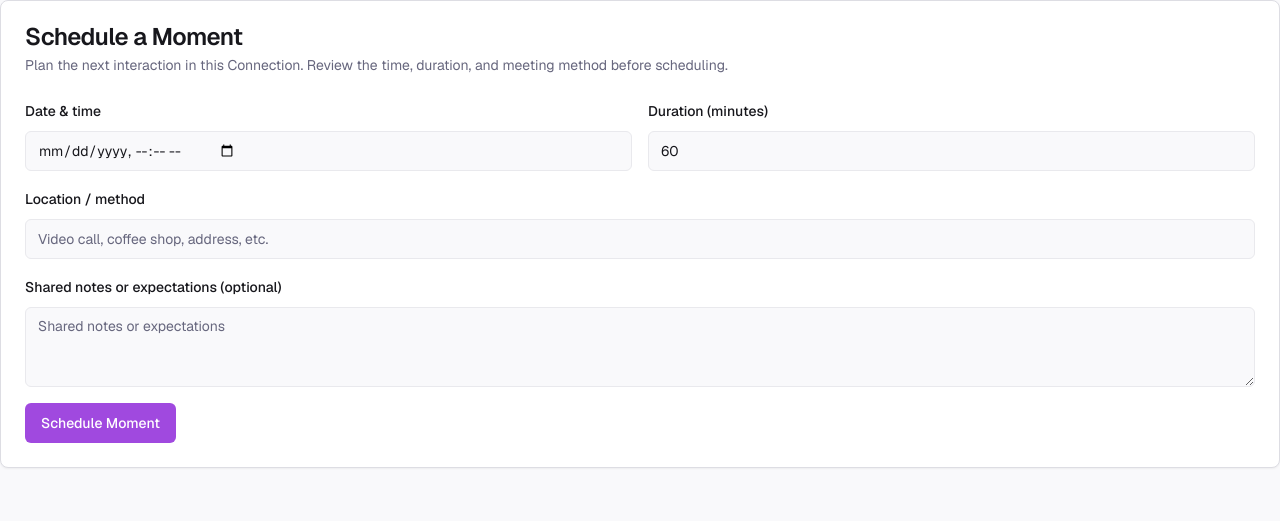
Test: MomentScheduler › recovers from network rejection without false success
Type "2026-12-10T10:00" into the field labelled "Date & time".
click(328, 151); type("2026-12-10T10:00")  # box [25,131,632,171]
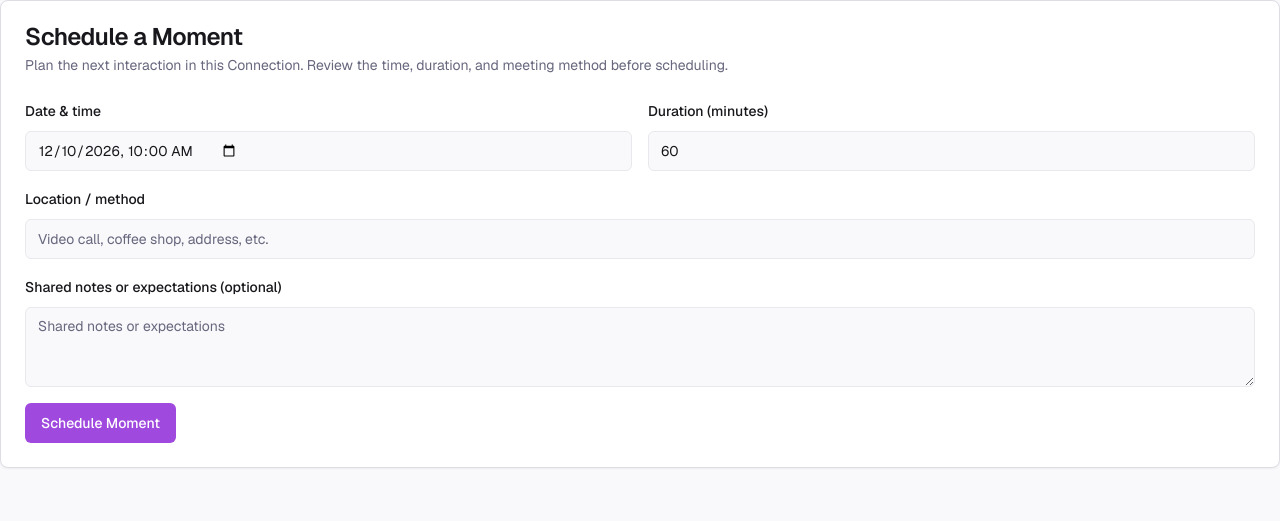
Click the button "Schedule Moment".
click(100, 423)  # box [25,403,176,443]
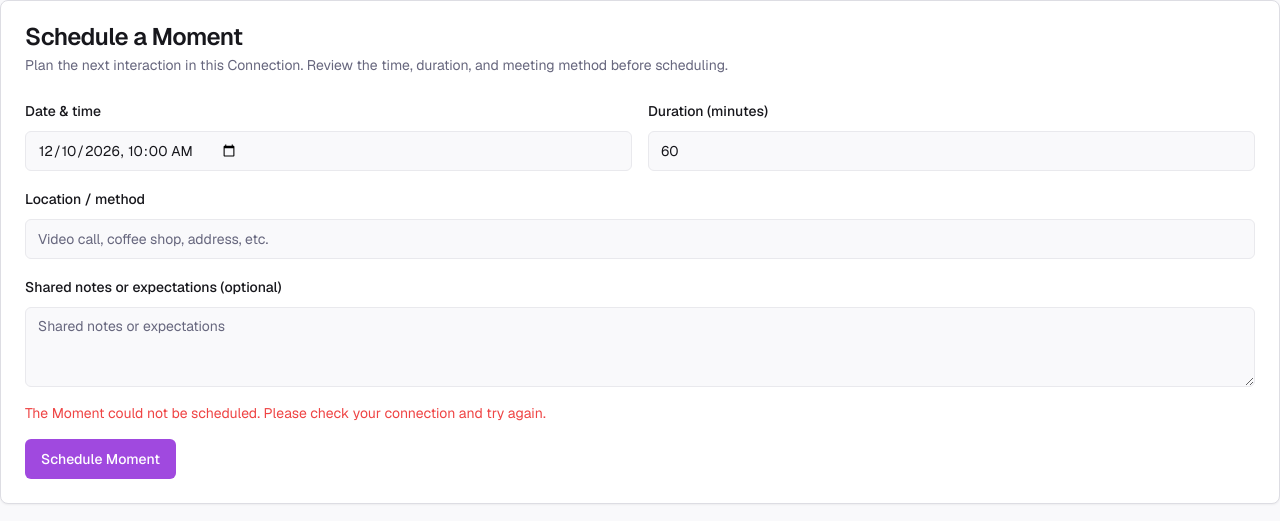
Expected: the button "Schedule Moment" is enabled, [25,439,176,479]
Expected: the message reads "The Moment could not be scheduled. Please check your connection and try again.", [25,404,546,422]
